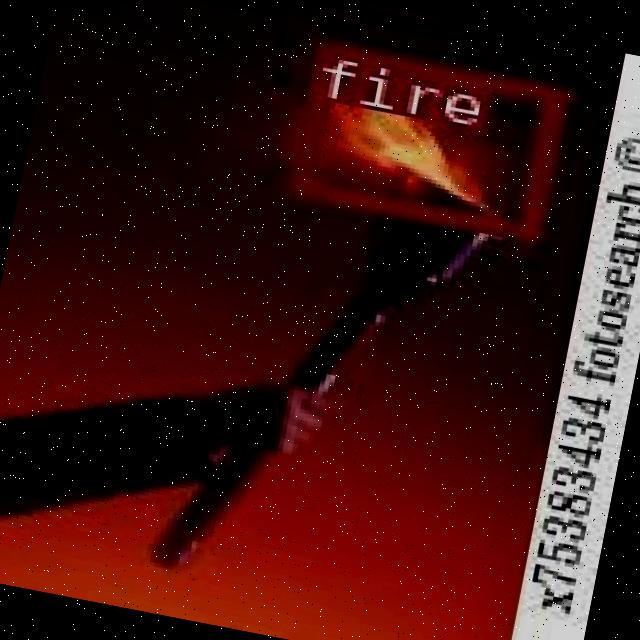fire: (288, 38, 562, 237)
